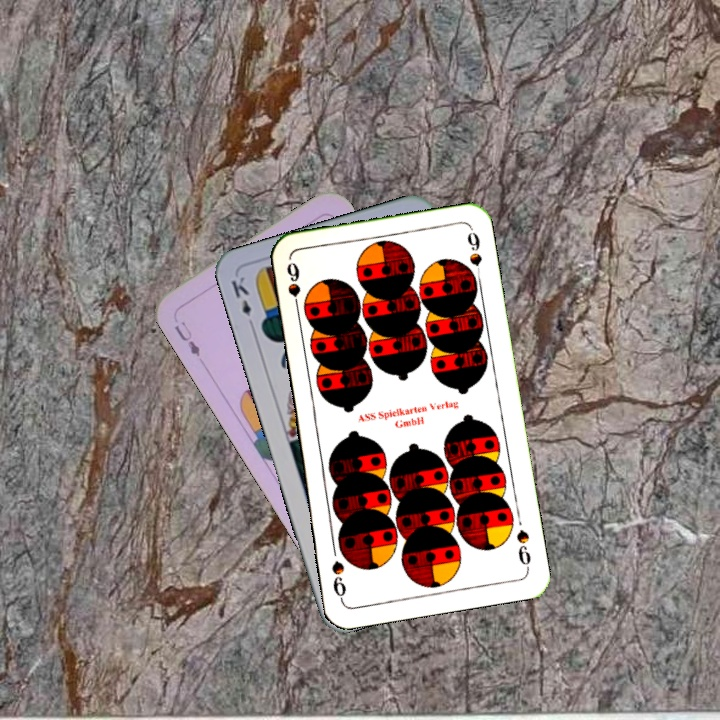EK: (227, 272, 257, 331)
EU: (170, 317, 203, 360)
S9: (282, 258, 303, 317), (512, 525, 534, 573)
